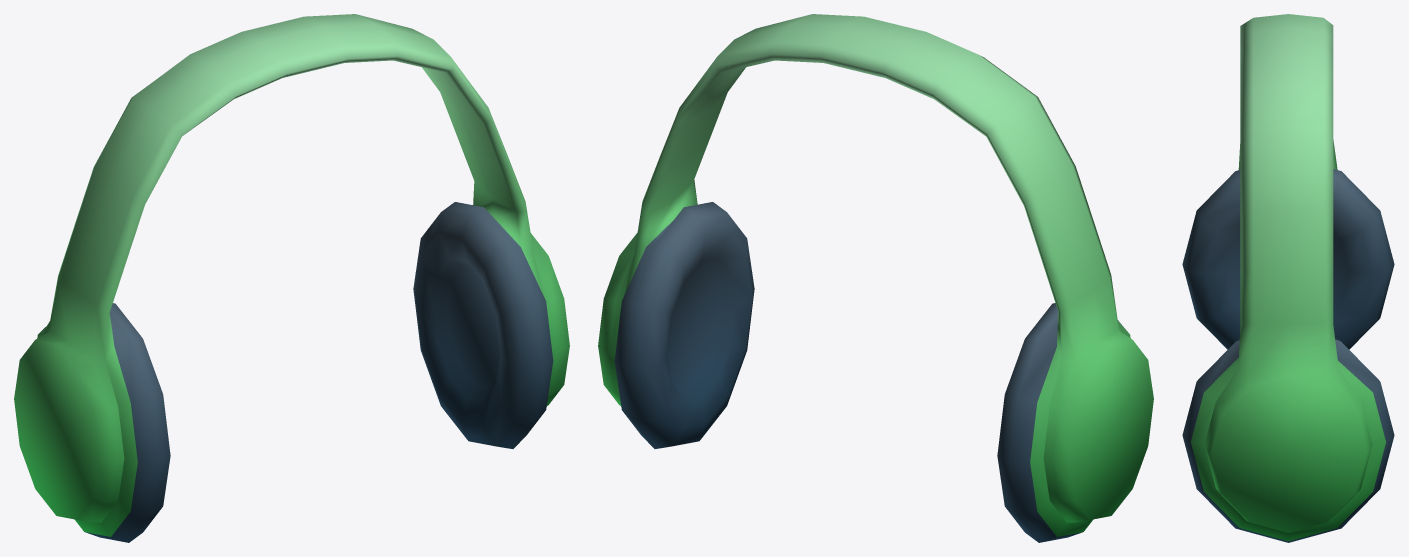
Rendered from Headphone.fbx.
The picture shows the model from 3 angles, left to right: view 1: azimuth 30°, elevation 25°; view 2: azimuth 150°, elevation 25°; view 3: azimuth 270°, elevation 25°; orthographic projection. The views are drawn at different scales.
Visible parts, largest first — view 1: Headphone; view 2: Headphone; view 3: Headphone.
Boxes of the visible parts, x1,y1,x2,y2 form: Headphone: (14,14,569,542); Headphone: (598,14,1153,542); Headphone: (1182,14,1394,542).
Size of the model in its own units: 0.4407 by 0.4078 by 0.1886.
